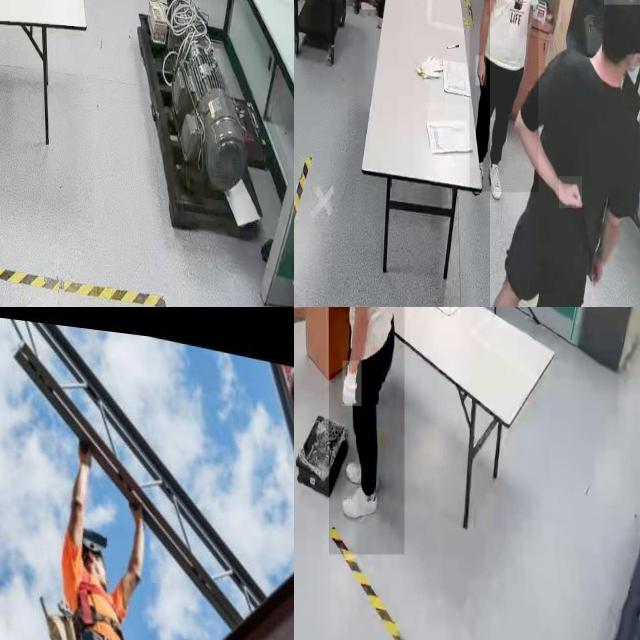Harness: (70, 569, 127, 640)
hand_glove: (342, 361, 362, 407)
hand_noglove: (559, 176, 583, 209), (589, 253, 603, 289), (475, 56, 487, 86)
person: (490, 0, 640, 307), (329, 307, 405, 555), (469, 0, 538, 192)
shoes: (341, 482, 378, 520), (485, 151, 504, 201)
